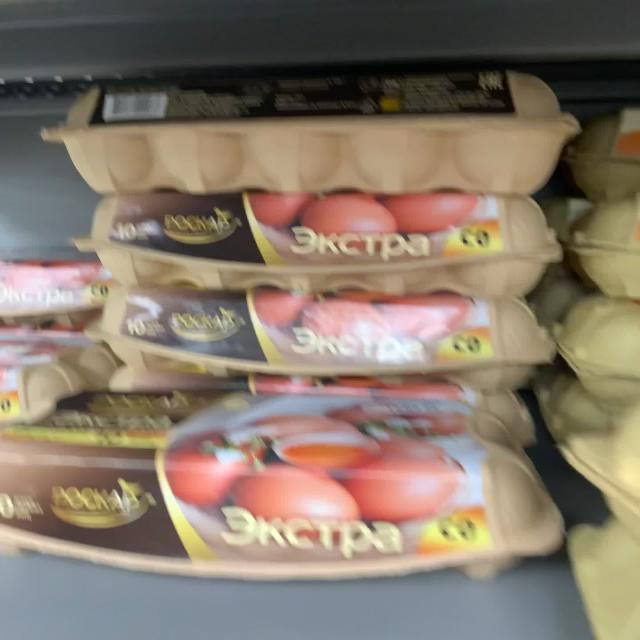egg box: (1, 398, 566, 584), (37, 69, 579, 197), (62, 189, 563, 301), (81, 285, 560, 394)
